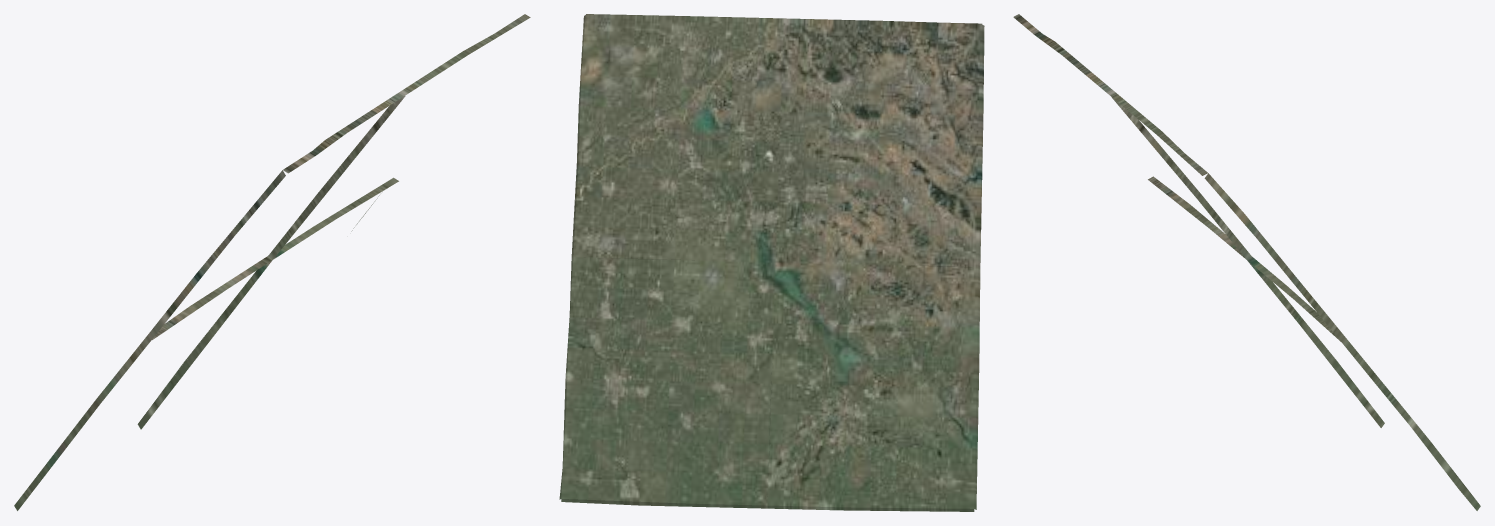
The picture shows the model from 3 angles, left to right: view 1: azimuth 30°, elevation 25°; view 2: azimuth 150°, elevation 25°; view 3: azimuth 270°, elevation 25°; orthographic projection. The views are drawn at different scales.
Bounding box in the file's own units: 313173 × 259655 × 279741.
1 material, 1 textured.
